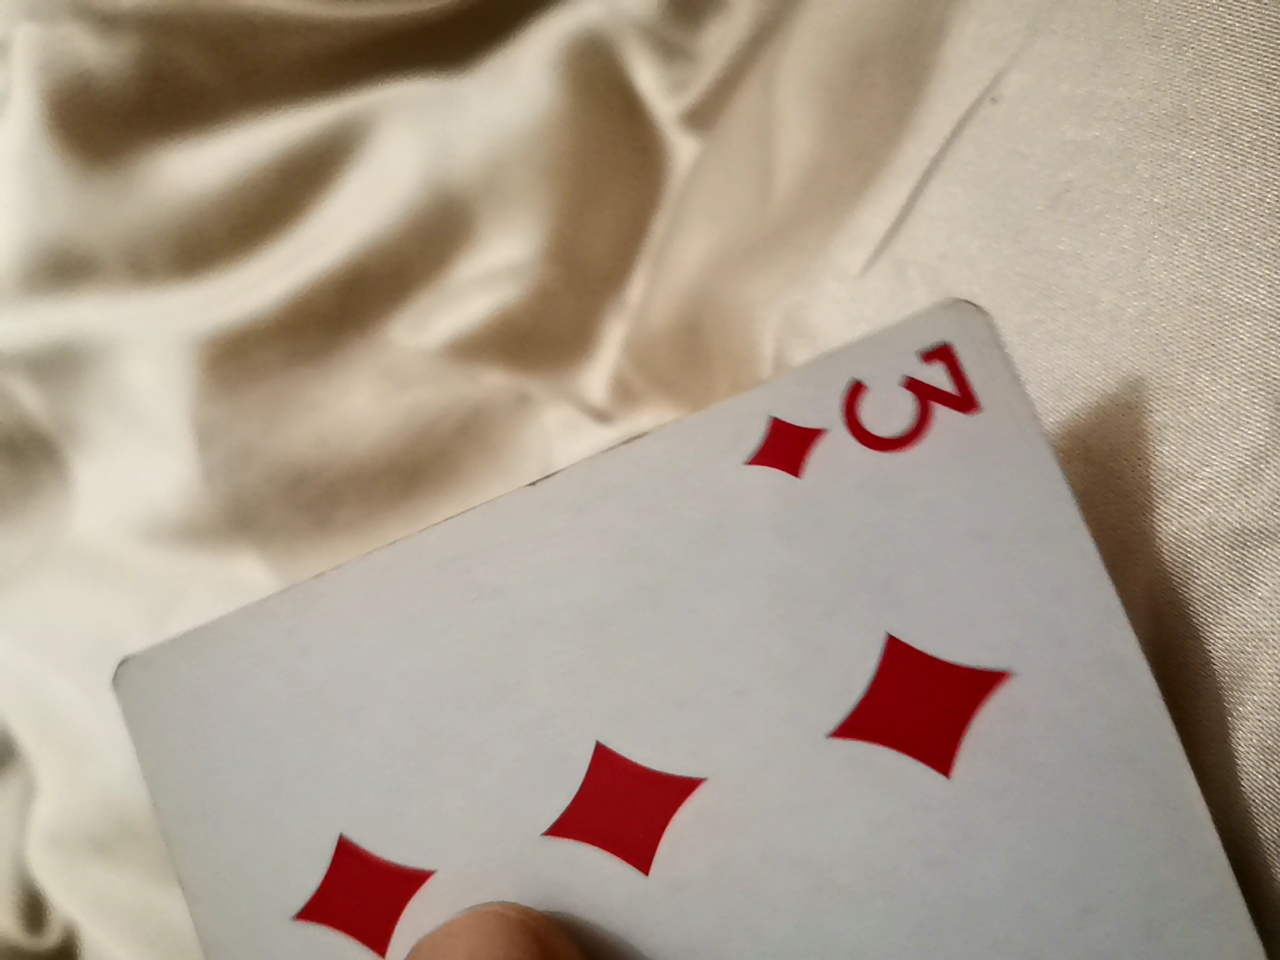fk 3: (46, 298, 1237, 949)
